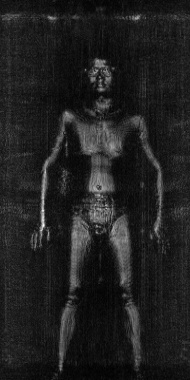gun: (55, 162, 68, 199)
